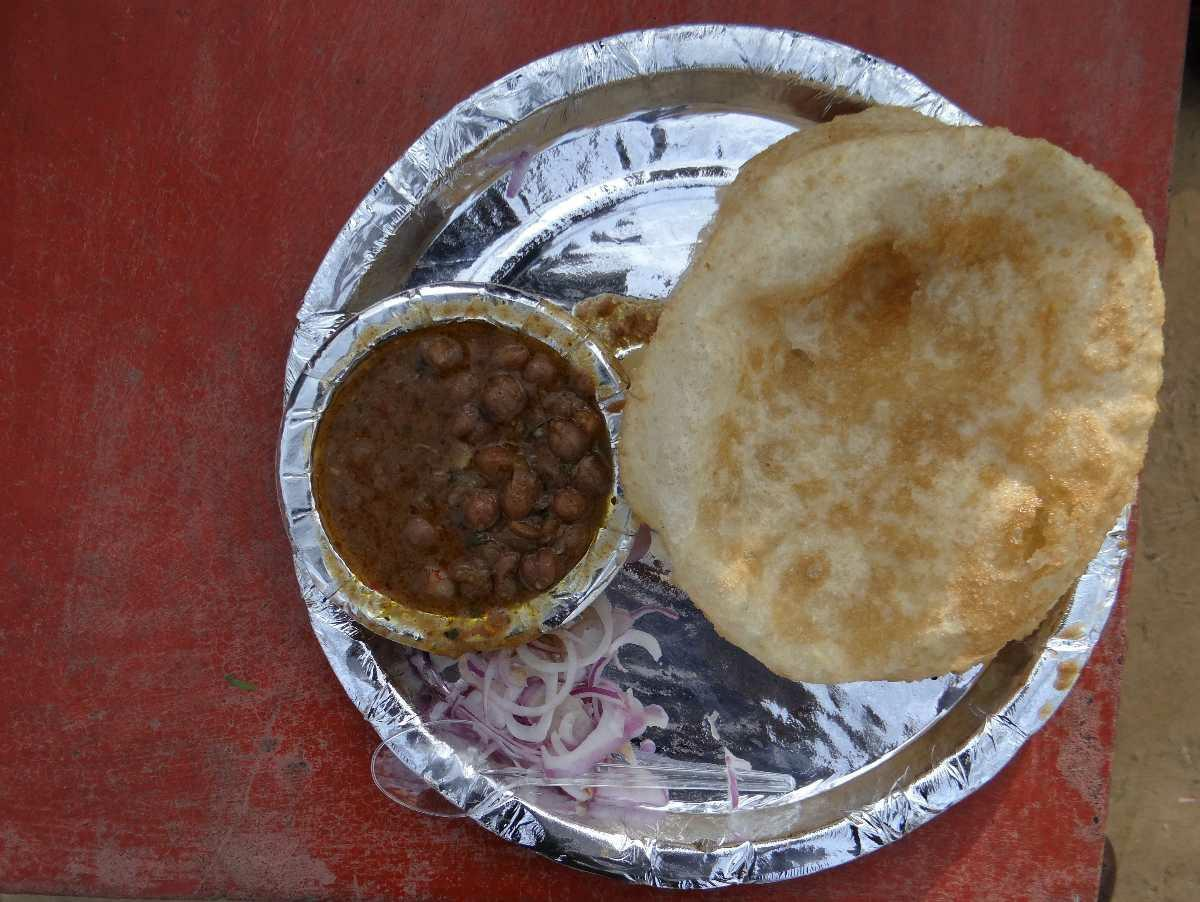Bhatura: (621, 102, 1166, 681)
Chole: (312, 320, 604, 617)
